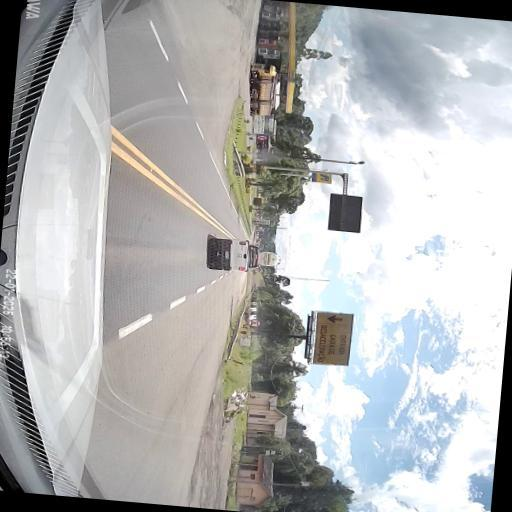R-6c: (246, 319, 260, 327)
